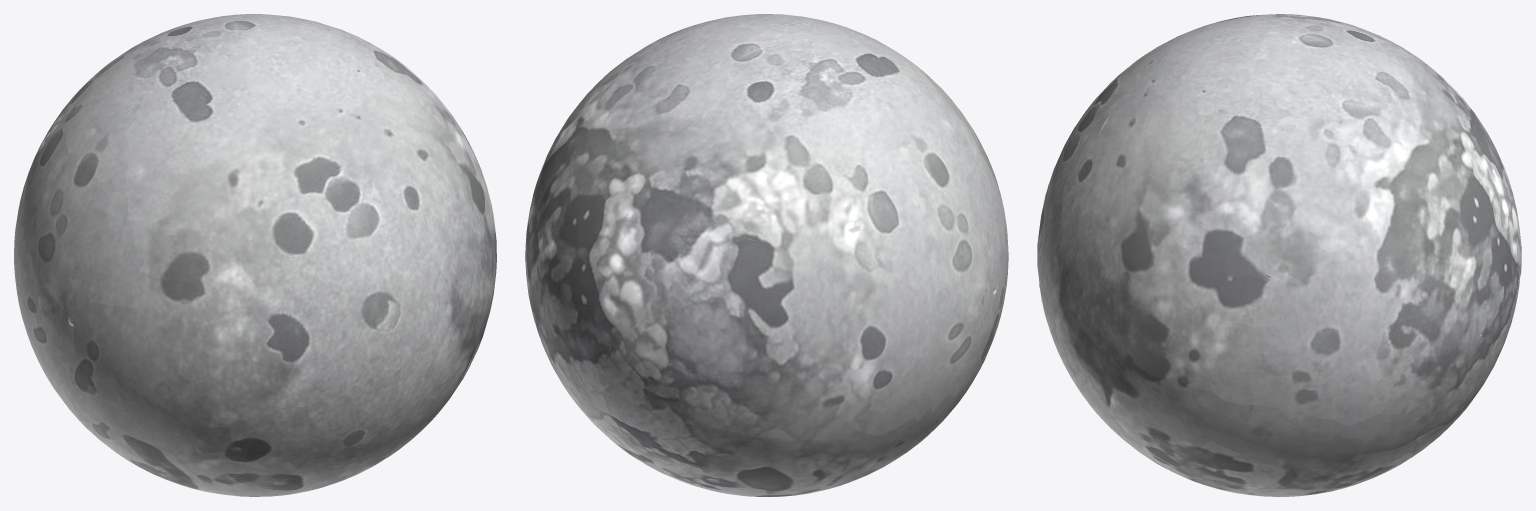
Rendered from solar-mercury.glb.
The picture shows the model from 3 angles, left to right: view 1: azimuth 30°, elevation 25°; view 2: azimuth 150°, elevation 25°; view 3: azimuth 270°, elevation 25°; orthographic projection.
Size of the model in its own units: 1.9 by 1.9 by 1.9.
1 material, 1 textured.
